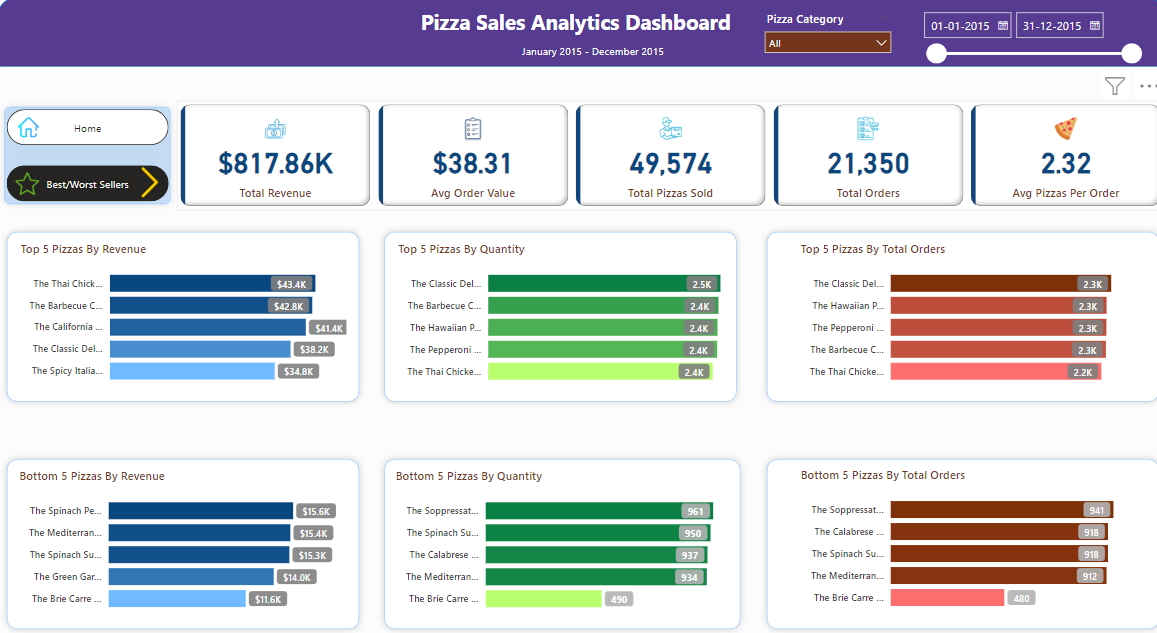

Layout of this report page (visuals, bound fields, positions):
{"tool":"powerbi","page":{"name":"Best/Worst Sellers","canvas":[1500,820],"ordinal":1},"visuals":[{"type":"cardVisual","fields":{"Data":["Measures Table.Total Revenue","Measures Table.Avg Order Value","Measures Table.Total Pizzas Sold","Measures Table.Total Orders","Measures Table.Avg Pizzas Per Order"]},"box":[229.8,131.7,1270.9,141.4],"z":0},{"type":"shape","box":[0,0,1500.7,88.4],"z":1000},{"type":"textbox","box":[538.2,8,424.2,46.6],"z":2000},{"type":"textbox","box":[652.3,54.6,224.9,33.7],"z":3000},{"type":"shape","box":[3.2,584.8,469.2,234.6],"z":4000},{"type":"shape","box":[488.4,584.8,474,234.6],"z":5000},{"type":"shape","box":[980.1,584.8,520.6,234.6],"z":6000},{"type":"shape","box":[0,131.7,229.8,141.4],"z":7000},{"type":"slicer","fields":{"Values":["pizza_sales.pizza_category"]},"box":[975.3,11.2,183.2,65.9],"z":8000},{"type":"slicer","fields":{"Values":["pizza_sales.order_date"]},"box":[1177.7,8,300.5,80.3],"z":9000},{"type":"shape","box":[3.2,292.4,469.2,234.6],"z":10000},{"type":"shape","box":[488.4,292.4,469.2,234.6],"z":11000},{"type":"shape","box":[980.1,292.4,520.6,234.6],"z":12000},{"type":"barChart","title":"Top 5 Pizzas By Revenue","fields":{"Category":["pizza_sales.pizza_name"],"Y":["Measures Table.Total Revenue"]},"box":[24.1,311.7,429,196],"z":13000},{"type":"barChart","title":"Bottom 5 Pizzas By Revenue","fields":{"Category":["pizza_sales.pizza_name"],"Y":["Measures Table.Total Revenue"]},"box":[22.5,604.1,429,196],"z":14000},{"type":"barChart","title":"Top 5 Pizzas By Quantity","fields":{"Category":["pizza_sales.pizza_name"],"Y":["Measures Table.Total Pizzas Sold"]},"box":[509.5,311.9,430.2,196.3],"z":15000},{"type":"barChart","title":"Bottom 5 Pizzas By Quantity","fields":{"Category":["pizza_sales.pizza_name"],"Y":["Measures Table.Total Pizzas Sold"]},"box":[506.8,604.2,430.2,196.3],"z":16000},{"type":"barChart","title":"Top 5 Pizzas By Total Orders","fields":{"Category":["pizza_sales.pizza_name"],"Y":["Measures Table.Total Orders"]},"box":[1026,311.9,430.2,196.3],"z":17000},{"type":"barChart","title":"Bottom 5 Pizzas By Total Orders","fields":{"Category":["pizza_sales.pizza_name"],"Y":["Measures Table.Total Orders"]},"box":[1027.4,602.8,430.2,196.3],"z":18000},{"type":"pageNavigator","box":[11.2,143,208.9,46.6],"z":19000},{"type":"pageNavigator","box":[11.2,215.3,208.9,46.6],"z":20000},{"type":"image","box":[20.9,143,37,46.6],"z":21000},{"type":"image","box":[170.3,212.1,49.8,49.8],"z":22000},{"type":"image","box":[17.7,218.5,40.2,40.2],"z":23000}]}

Visuals, with their boxes in screenshot pixels (x1, y1, x2, y2), scaled from the page's 1500x820 canvas onto the 1157x633 screenshot:
cardVisual - Measures Table.Total Revenue x Measures Table.Avg Order Value: <bbox>177, 102, 1156, 211</bbox>
shape: <bbox>0, 0, 1156, 68</bbox>
textbox: <bbox>415, 6, 742, 42</bbox>
textbox: <bbox>503, 42, 677, 68</bbox>
shape: <bbox>2, 451, 364, 632</bbox>
shape: <bbox>377, 451, 742, 632</bbox>
shape: <bbox>756, 451, 1156, 632</bbox>
shape: <bbox>0, 102, 177, 211</bbox>
slicer - pizza_sales.pizza_category: <bbox>752, 9, 894, 60</bbox>
slicer - pizza_sales.order_date: <bbox>908, 6, 1140, 68</bbox>
shape: <bbox>2, 226, 364, 407</bbox>
shape: <bbox>377, 226, 739, 407</bbox>
shape: <bbox>756, 226, 1156, 407</bbox>
"Top 5 Pizzas By Revenue" barChart: <bbox>19, 241, 349, 392</bbox>
"Bottom 5 Pizzas By Revenue" barChart: <bbox>17, 466, 348, 618</bbox>
"Top 5 Pizzas By Quantity" barChart: <bbox>393, 241, 725, 392</bbox>
"Bottom 5 Pizzas By Quantity" barChart: <bbox>391, 466, 723, 618</bbox>
"Top 5 Pizzas By Total Orders" barChart: <bbox>791, 241, 1123, 392</bbox>
"Bottom 5 Pizzas By Total Orders" barChart: <bbox>792, 465, 1124, 617</bbox>
pageNavigator: <bbox>9, 110, 170, 146</bbox>
pageNavigator: <bbox>9, 166, 170, 202</bbox>
image: <bbox>16, 110, 45, 146</bbox>
image: <bbox>131, 164, 170, 202</bbox>
image: <bbox>14, 169, 45, 200</bbox>
